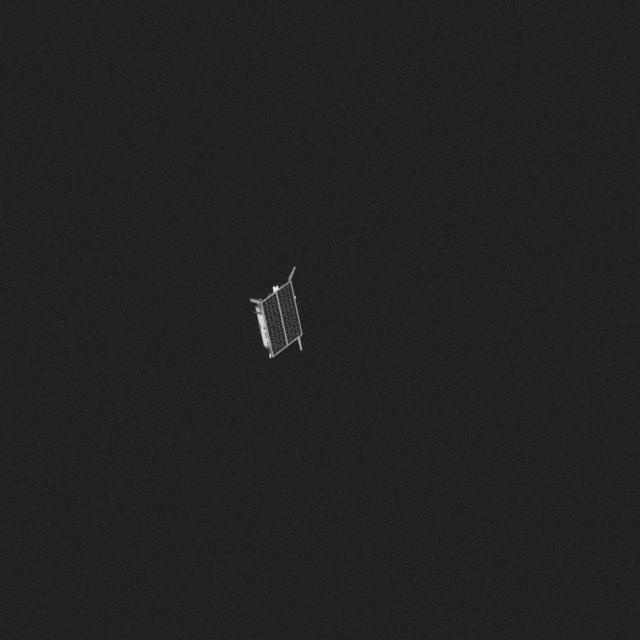satellite: (238, 256, 310, 360)
